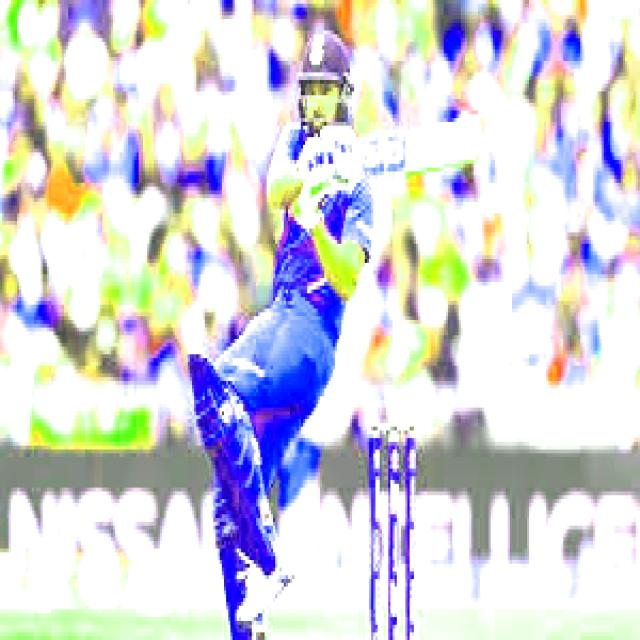toe: (460, 110, 490, 169)
